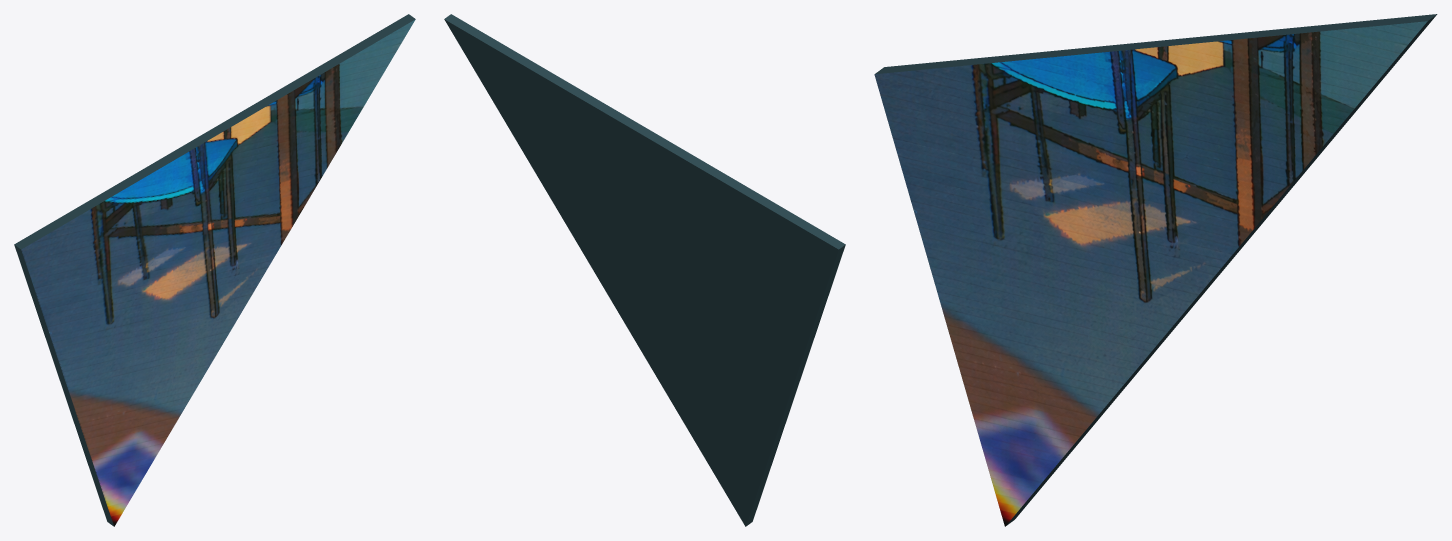
The picture shows the model from 3 angles, left to right: view 1: azimuth 30°, elevation 25°; view 2: azimuth 150°, elevation 25°; view 3: azimuth 330°, elevation 25°; orthographic projection. The views are drawn at different scales.
Parts seen in each view (by area): view 1: Piece_07; view 2: Piece_07; view 3: Piece_07.
Boxes of the visible parts, box(x1,y1,x2,y2) form: Piece_07: box(14, 14, 415, 526); Piece_07: box(444, 14, 845, 526); Piece_07: box(874, 14, 1437, 526).
Size of the model in its own units: 0.809 by 0.8507 by 0.025.
2 materials, 1 textured.
